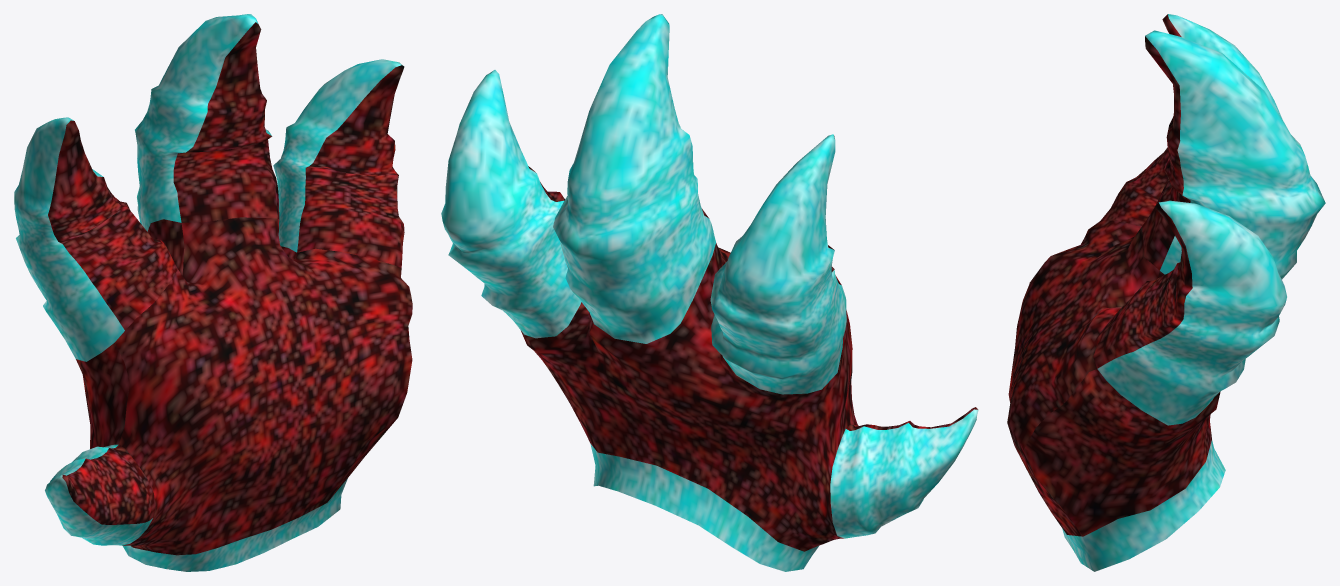
3 renders of one model, left to right at view 1: azimuth 30°, elevation 25°; view 2: azimuth 150°, elevation 25°; view 3: azimuth 270°, elevation 25°, orthographic. The views are drawn at different scales.
Visible parts, largest first — view 1: SM_VFX_Claw_LOD0; view 2: SM_VFX_Claw_LOD0; view 3: SM_VFX_Claw_LOD0.
Boxes of the visible parts, <box> form: SM_VFX_Claw_LOD0: <box>14,14,412,571</box>; SM_VFX_Claw_LOD0: <box>441,14,978,571</box>; SM_VFX_Claw_LOD0: <box>1007,14,1325,571</box>.
Size of the model in its own units: 0.7639 by 0.9033 by 0.4937.
Materials: 1 (1 with a texture image).
